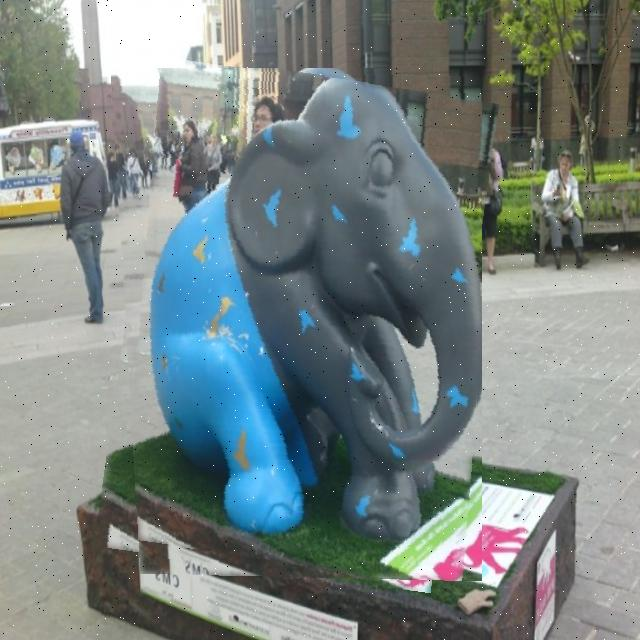elephant: (110, 68, 482, 582)
